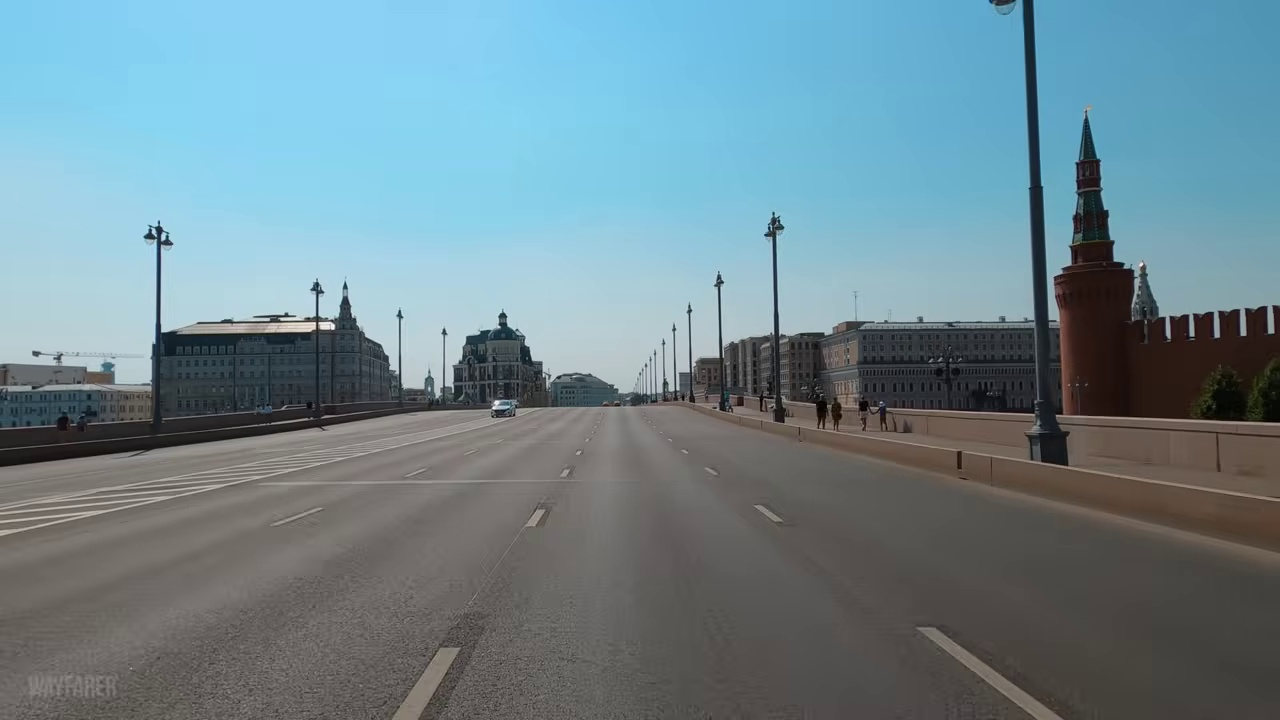apagada: (141, 222, 177, 255), (761, 214, 788, 243)
